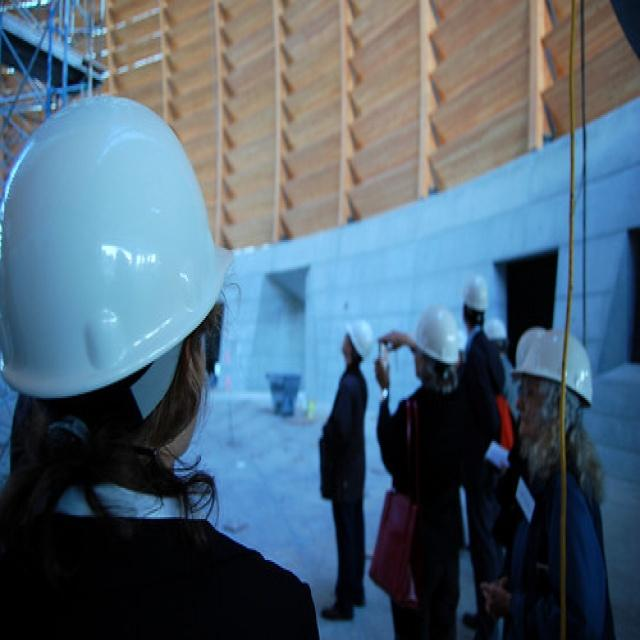helmet: (1, 123, 221, 533), (515, 429, 597, 547), (411, 388, 462, 500), (351, 420, 374, 488), (464, 362, 490, 414), (486, 420, 509, 459)
